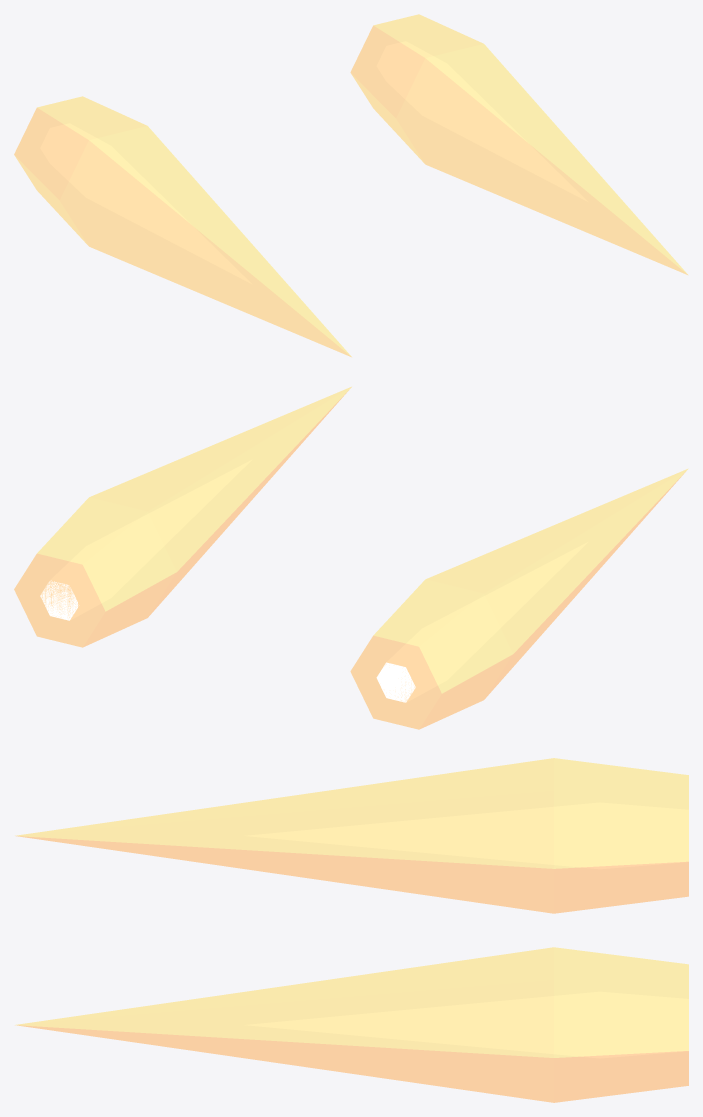
File: super-jet-boost.glb
3 renders of one model, top to bottom at view 1: azimuth 30°, elevation 25°; view 2: azimuth 150°, elevation 25°; view 3: azimuth 270°, elevation 25°, orthographic. The views are drawn at different scales.
Visible parts, largest first — view 1: super-jet plume 0; view 2: super-jet plume 0; view 3: super-jet plume 0.
Part boxes in pixels (x1=…): super-jet plume 0: x1=14, y1=14, x2=687, y2=356; super-jet plume 0: x1=14, y1=387, x2=687, y2=729; super-jet plume 0: x1=17, y1=758, x2=688, y2=1102.
Size of the model in its own units: 1.7 by 0.3811 by 1.9.
